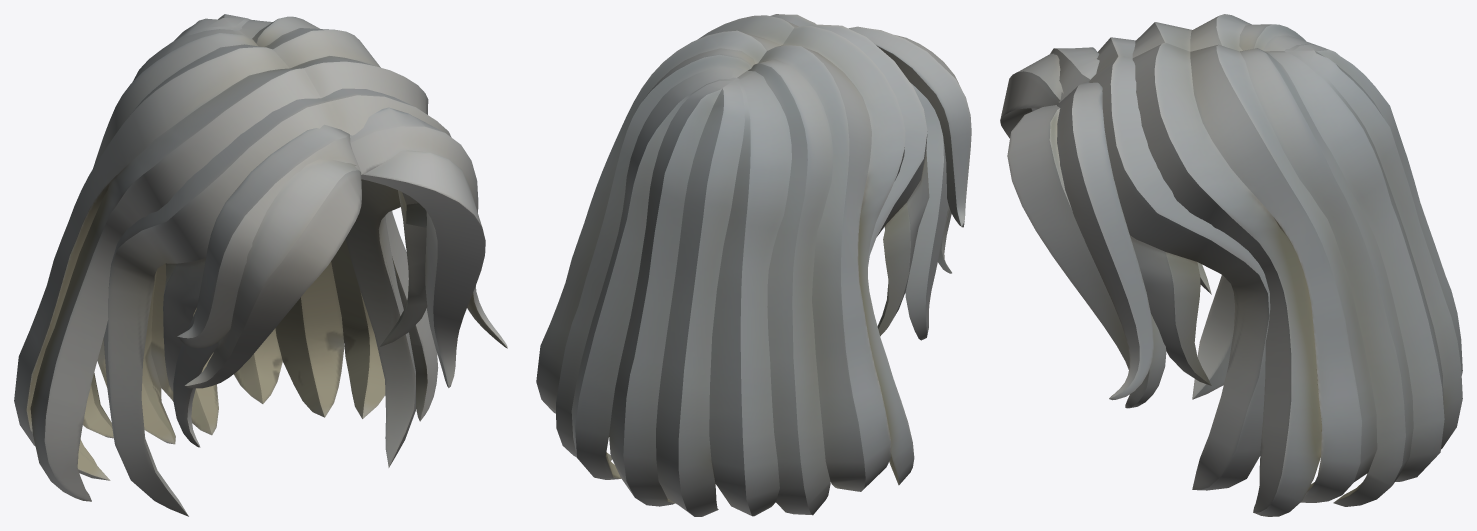
File: Hair_Long.gltf
The picture shows the model from 3 angles, left to right: view 1: azimuth 30°, elevation 25°; view 2: azimuth 150°, elevation 25°; view 3: azimuth 270°, elevation 25°; orthographic projection. The views are drawn at different scales.
Parts seen in each view (by area): view 1: Hair_Long; view 2: Hair_Long; view 3: Hair_Long.
Part boxes in pixels (<box>): Hair_Long: <box>14,14,507,516</box>; Hair_Long: <box>536,14,971,516</box>; Hair_Long: <box>1000,14,1462,516</box>.
Bounding box in the file's own units: 0.2447 × 0.2764 × 0.2704.
1 material, 1 textured.
